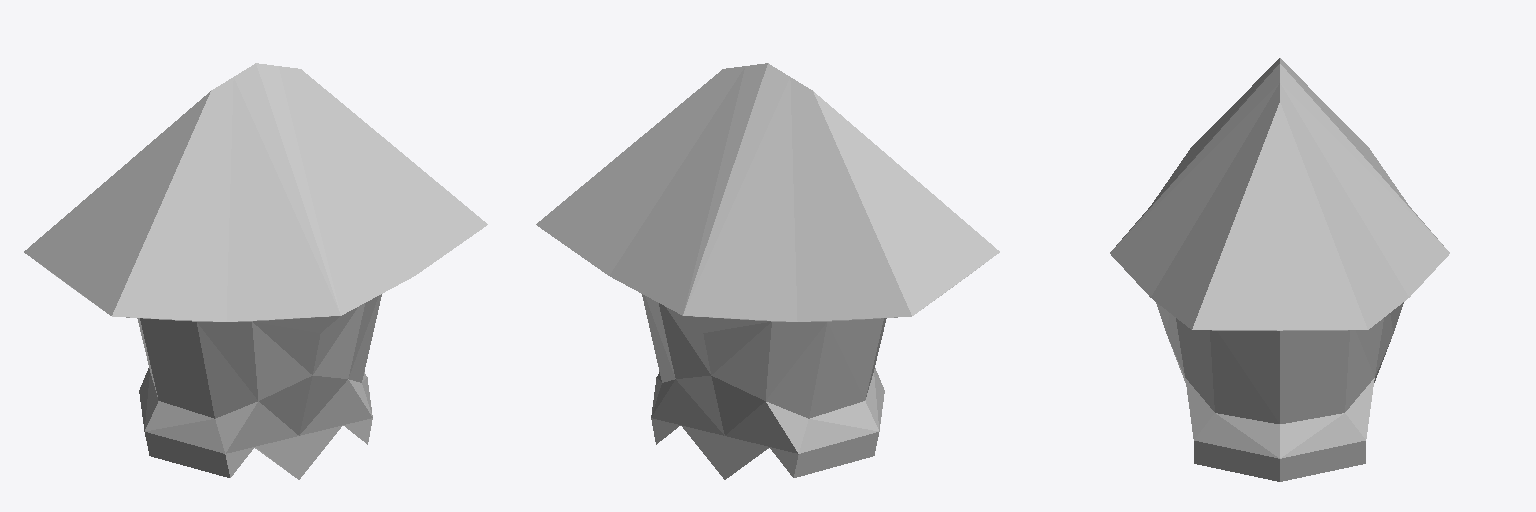
The model's file is bossLowerJaw.obj.
The picture shows the model from 3 angles: view 1: azimuth 30°, elevation 25°; view 2: azimuth 150°, elevation 25°; view 3: azimuth 270°, elevation 25°; orthographic projection.
Parts seen in each view (by area): view 1: Cube; view 2: Cube; view 3: Cube.
Boxes of the visible parts, box(x1,y1,x2,y2) form: Cube: box(24, 63, 487, 479); Cube: box(536, 63, 999, 479); Cube: box(1110, 58, 1449, 481).
Size of the model in its own units: 2.43 by 2.38 by 1.9.